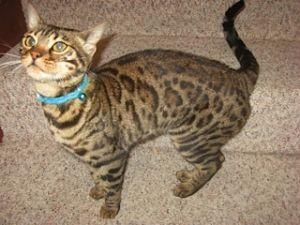bengal: (7, 1, 111, 90)
